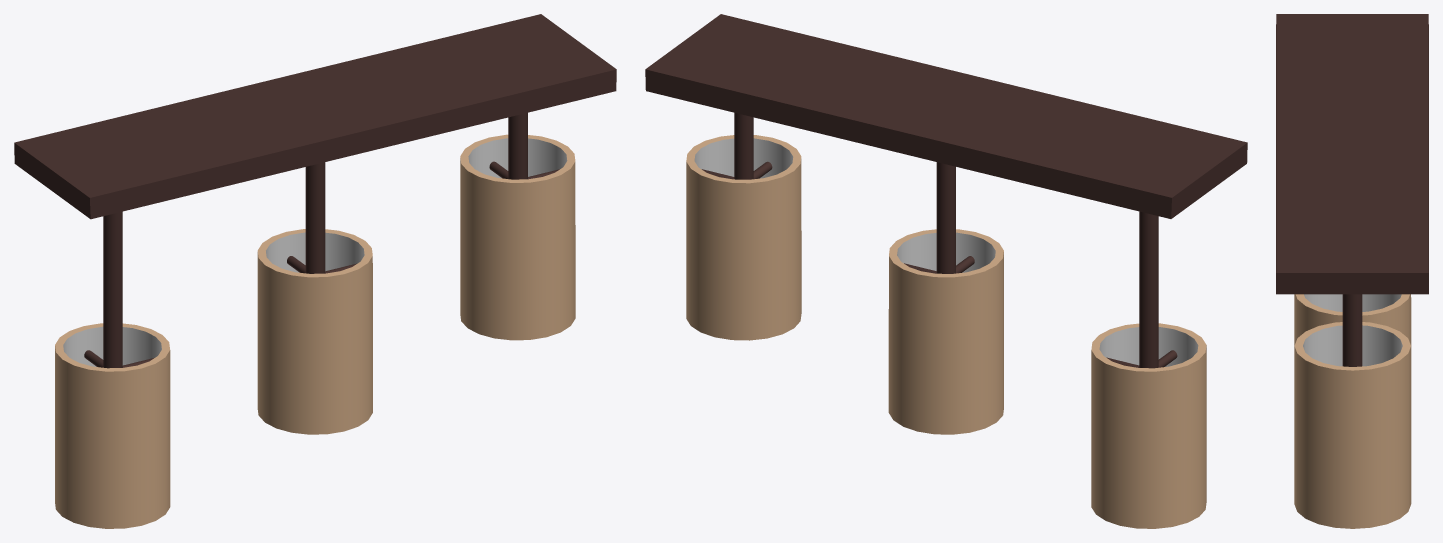
File: Spot3_6.fbx
3 renders of one model, left to right at view 1: azimuth 30°, elevation 25°; view 2: azimuth 150°, elevation 25°; view 3: azimuth 270°, elevation 25°, orthographic.
Visible parts, largest first — view 1: pCube2071, pPipe139, pPipe138, pPipe137, pCylinder858, pCylinder854, pCylinder850; view 2: pCube2071, pPipe137, pPipe139, pPipe138, pCylinder858, pCylinder854, pCylinder850; view 3: pCube2071, pPipe137, pPipe138, pCylinder850.
Part boxes in pixels (bbox=[...]): pCube2071: bbox=[14, 14, 616, 219]; pPipe139: bbox=[55, 323, 170, 528]; pPipe138: bbox=[257, 229, 372, 434]; pPipe137: bbox=[460, 134, 575, 340]; pCylinder858: bbox=[103, 211, 122, 368]; pCylinder854: bbox=[305, 162, 325, 273]; pCylinder850: bbox=[508, 112, 527, 179]; pCube2071: bbox=[645, 14, 1247, 218]; pPipe137: bbox=[686, 135, 801, 340]; pPipe139: bbox=[1091, 323, 1206, 528]; pPipe138: bbox=[888, 229, 1003, 434]; pCylinder858: bbox=[1139, 211, 1158, 368]; pCylinder854: bbox=[936, 162, 955, 273]; pCylinder850: bbox=[734, 112, 753, 179]; pCube2071: bbox=[1276, 14, 1428, 294]; pPipe137: bbox=[1294, 322, 1411, 528]; pPipe138: bbox=[1294, 294, 1411, 405]; pCylinder850: bbox=[1342, 294, 1362, 366].
Size of the model in its own units: 30.58 by 19.36 by 7.63.
